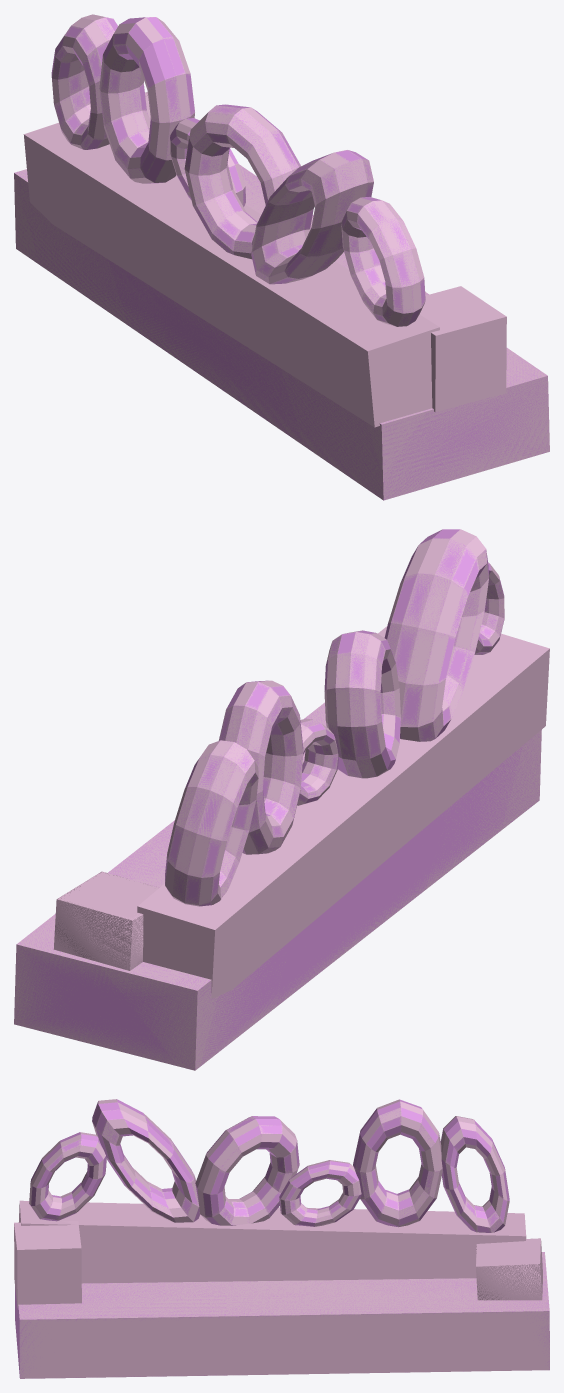
File: decoratedBench.glb
The picture shows the model from 3 angles, top to bottom: view 1: azimuth 30°, elevation 25°; view 2: azimuth 150°, elevation 25°; view 3: azimuth 270°, elevation 25°; orthographic projection. The views are drawn at different scales.
Visible parts, largest first — view 1: group997983099, group795516396, group795516396.001, group997983099.001, group249111936, group250445496, group32685562, group672843478, group1115652965, group32685562.001, group249111936.001, group438409493 (+6 smaller); view 2: group997983099, group795516396.001, group997983099.001, group795516396, group249111936, group438409493, group250445496, group32685562, group249111936.001, group1601070232, group438409493.001, group32685562.001 (+6 smaller); view 3: group795516396, group997983099, group997983099.001, group795516396.001, group672843478, group250445496, group32685562, group1601070232, group249111936, group250445496.001, group32685562.001, group249111936.001 (+8 smaller).
Part boxes in pixels (x1,y1,x2,y2): group997983099: (24, 122, 439, 427); group795516396: (14, 164, 549, 500); group795516396.001: (14, 165, 549, 500); group997983099.001: (23, 123, 439, 426); group249111936: (251, 150, 373, 284); group250445496: (184, 104, 300, 259); group32685562: (99, 17, 194, 183); group672843478: (419, 286, 506, 411); group1115652965: (341, 197, 425, 326); group32685562.001: (99, 17, 194, 183); group249111936.001: (251, 150, 373, 284); group438409493: (51, 14, 117, 149); group997983099: (137, 633, 549, 998); group795516396.001: (14, 703, 541, 1069); group997983099.001: (138, 635, 549, 998); group795516396: (14, 702, 541, 1070); group249111936: (387, 529, 488, 741); group438409493: (165, 740, 258, 906); group250445496: (324, 630, 400, 778); group32685562: (218, 680, 303, 854); group249111936.001: (384, 529, 488, 741); group1601070232: (53, 871, 158, 970); group438409493.001: (165, 740, 258, 906); group32685562.001: (219, 680, 303, 854); group795516396: (16, 1252, 549, 1378); group997983099: (18, 1200, 526, 1283); group997983099.001: (20, 1200, 525, 1283); group795516396.001: (15, 1252, 549, 1378); group672843478: (14, 1221, 81, 1307); group250445496: (195, 1116, 299, 1225); group32685562: (353, 1099, 442, 1227); group1601070232: (476, 1238, 542, 1300); group249111936: (92, 1099, 199, 1222); group250445496.001: (195, 1116, 299, 1225); group32685562.001: (353, 1099, 439, 1226); group249111936.001: (92, 1099, 199, 1222).
Bounding box in the file's own units: 1.54 × 2.23 × 4.82.
